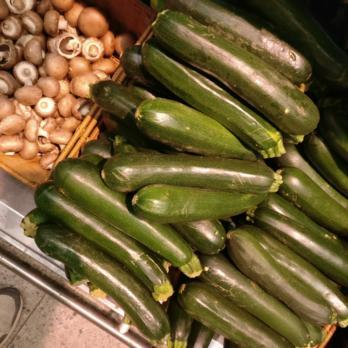Cucumber: (34, 159, 348, 348), (128, 0, 348, 159), (92, 78, 348, 158)
